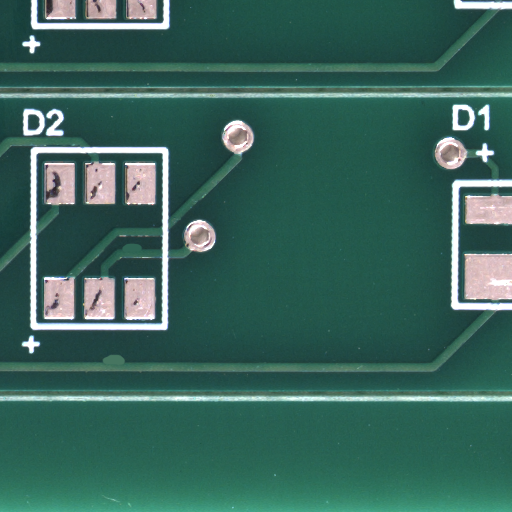Spur: (111, 359, 140, 373), (131, 247, 158, 258)
